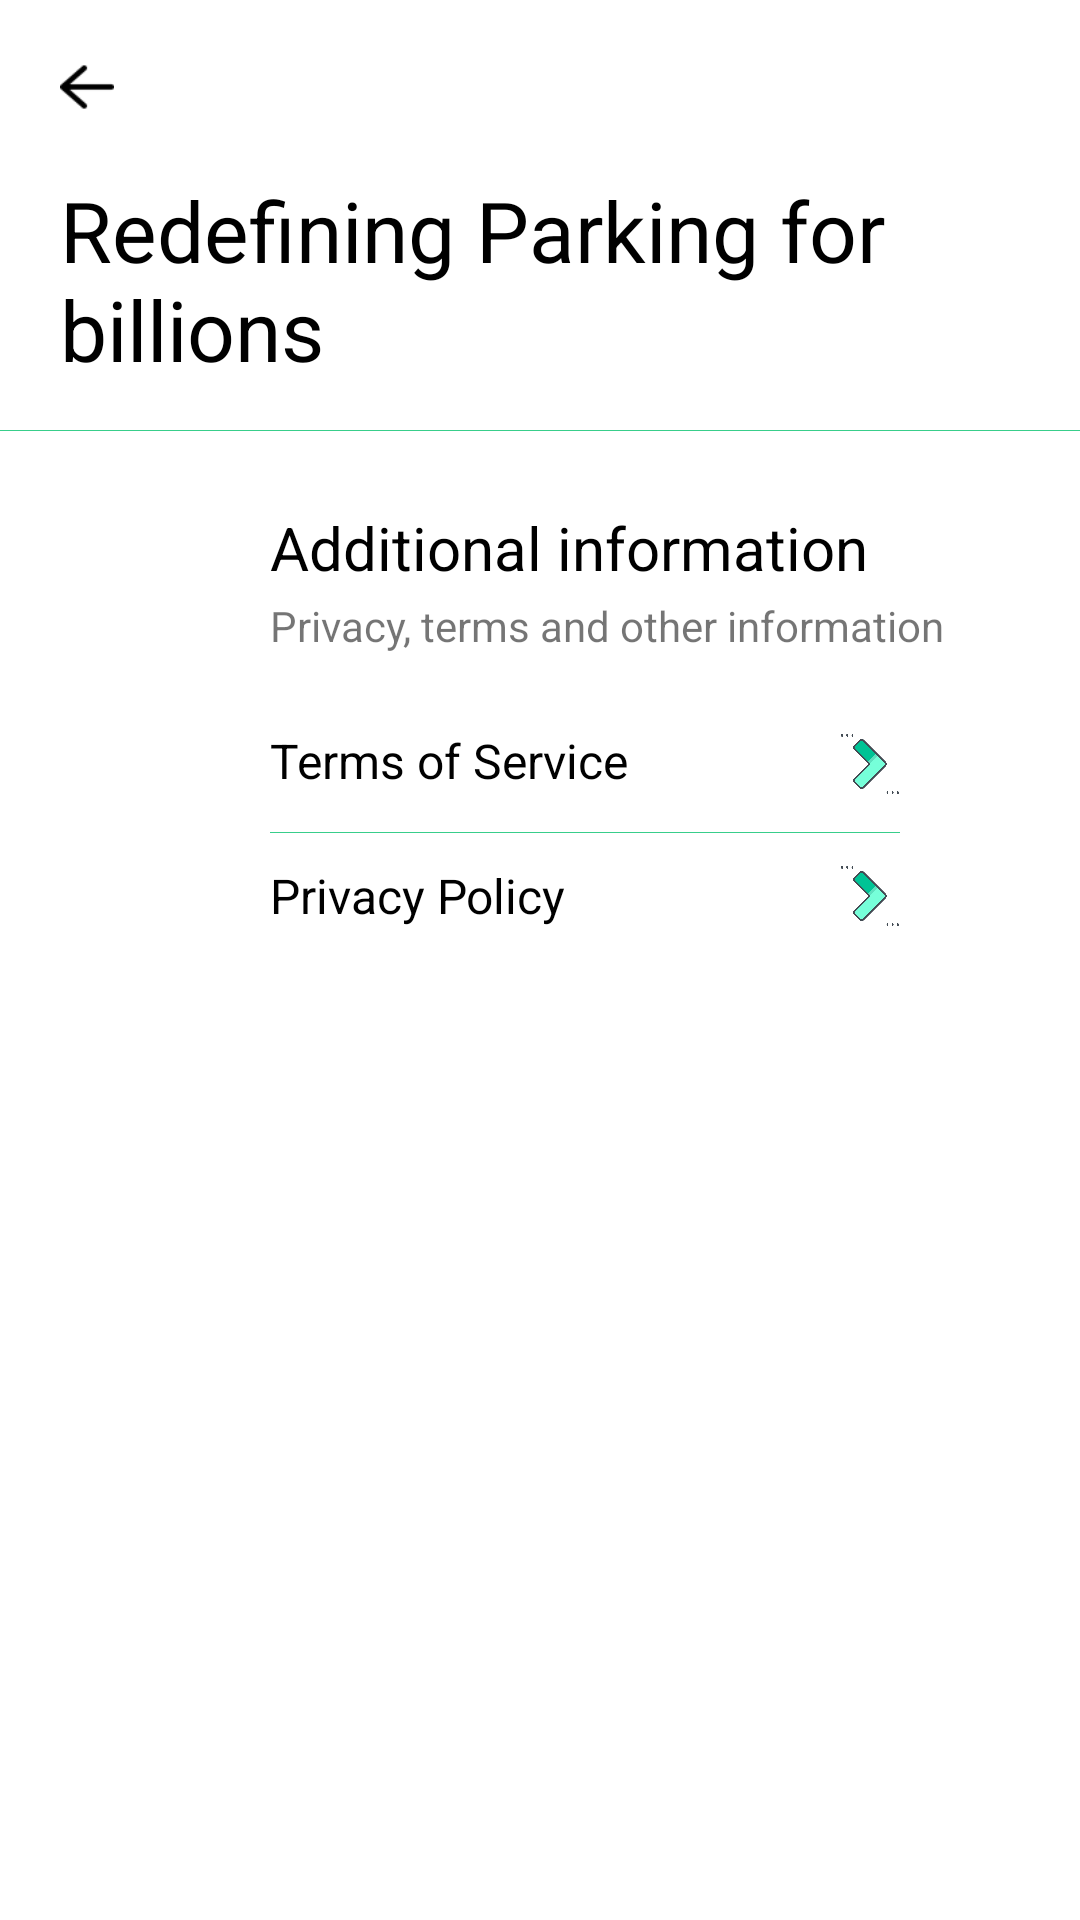

Icon click points for this 1080*1920 phone screenshot, format point (x, y):
arrow: point (87, 87)
